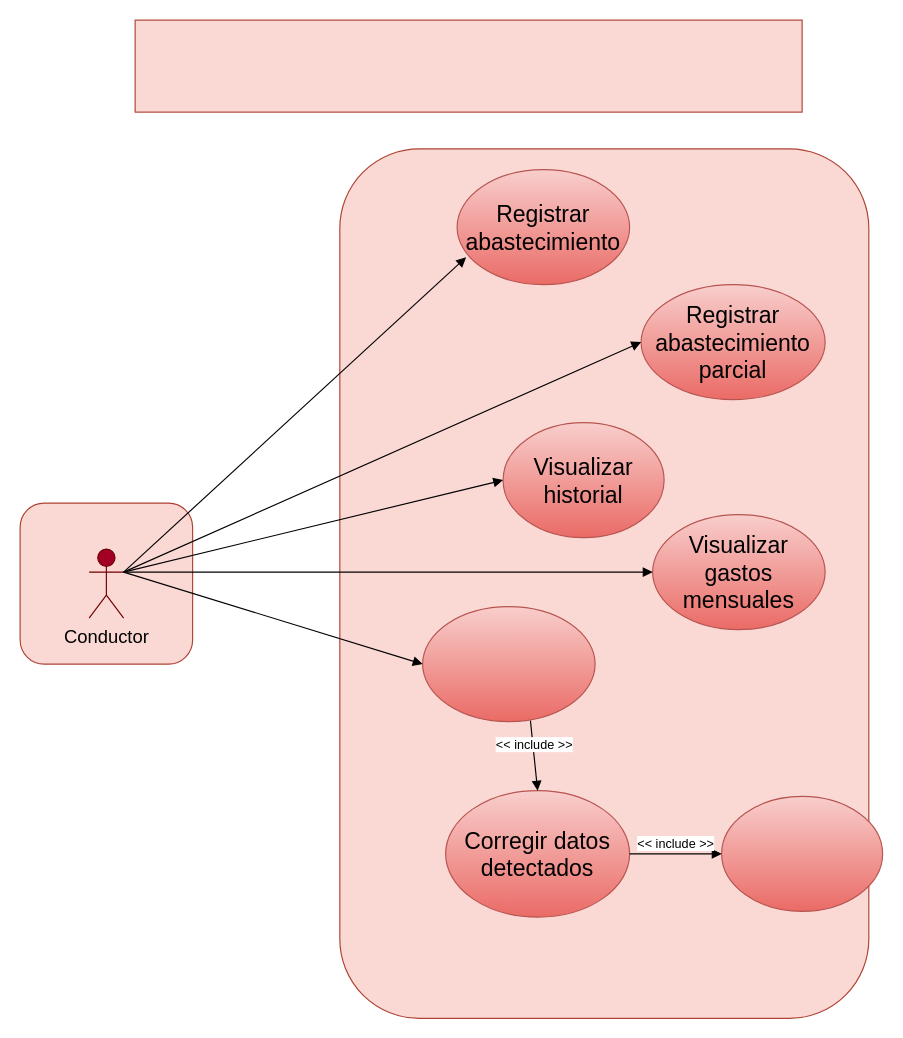
Image size: 903x1038. Some labels were removed from this diagram. Each missing label, with the centre of its shape:
"Confirmar y guardar" goes at [801,853].
"Gestión de Combustible y Carga" goes at [468,65].
"Registrar combustible con IA" goes at [508,663].
